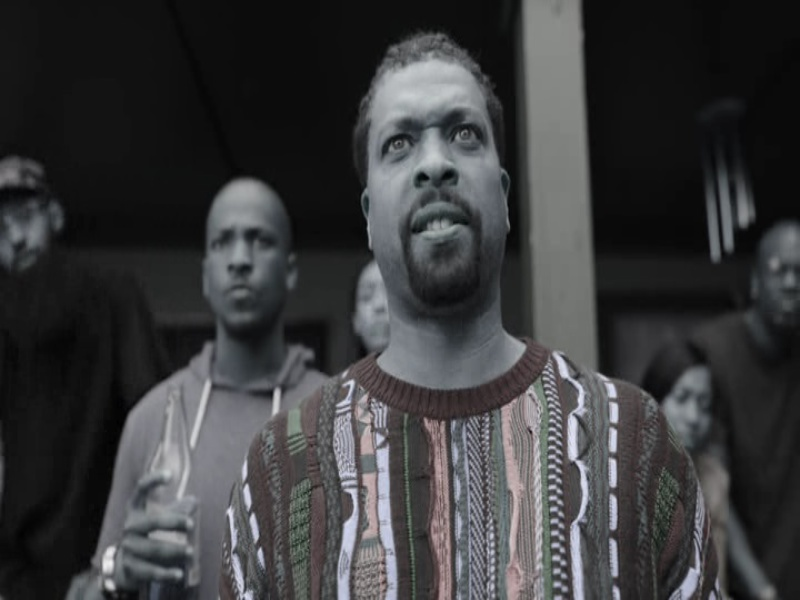TsisyArotava: (340, 53, 529, 320), (184, 175, 308, 349)
